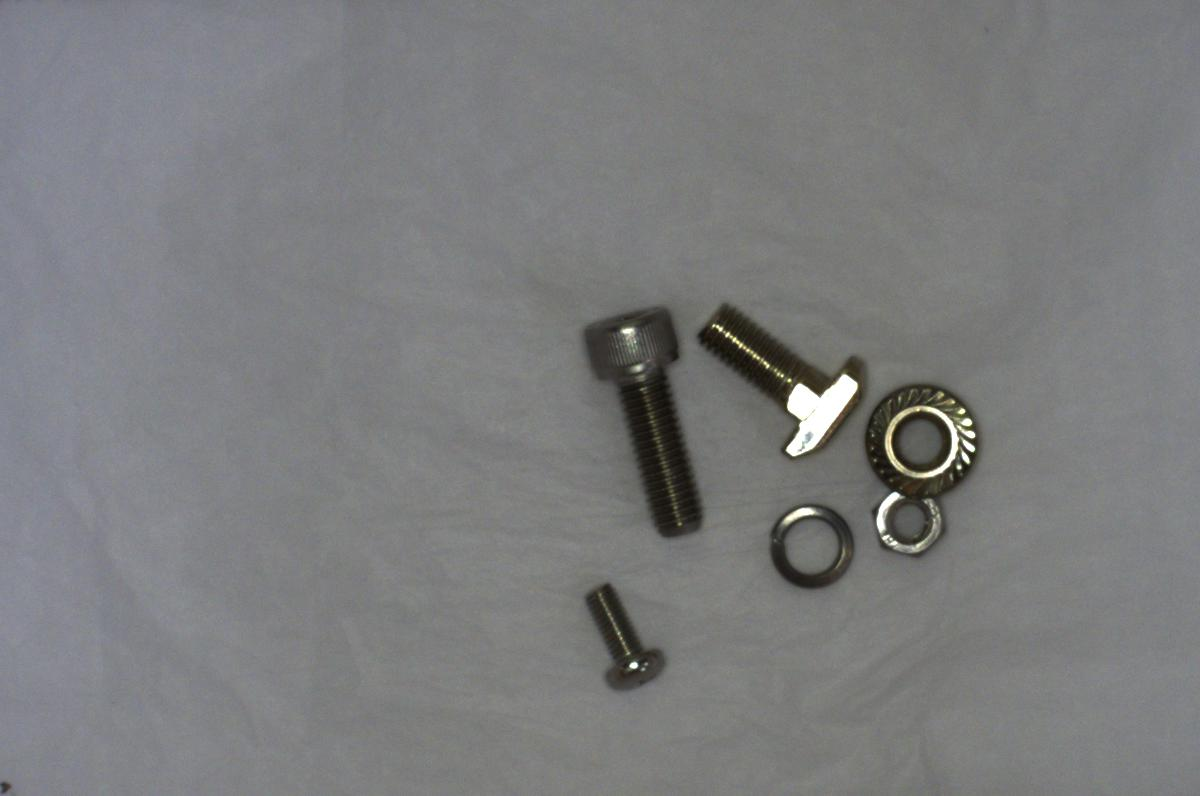Flange nut: (851, 372, 989, 499)
Hexagon nut: (857, 485, 962, 563)
Hexagon screw: (576, 294, 708, 546)
Round head screw: (571, 569, 680, 708)
Spring washer: (761, 492, 852, 592)
T-shaped screw: (683, 294, 867, 463)
